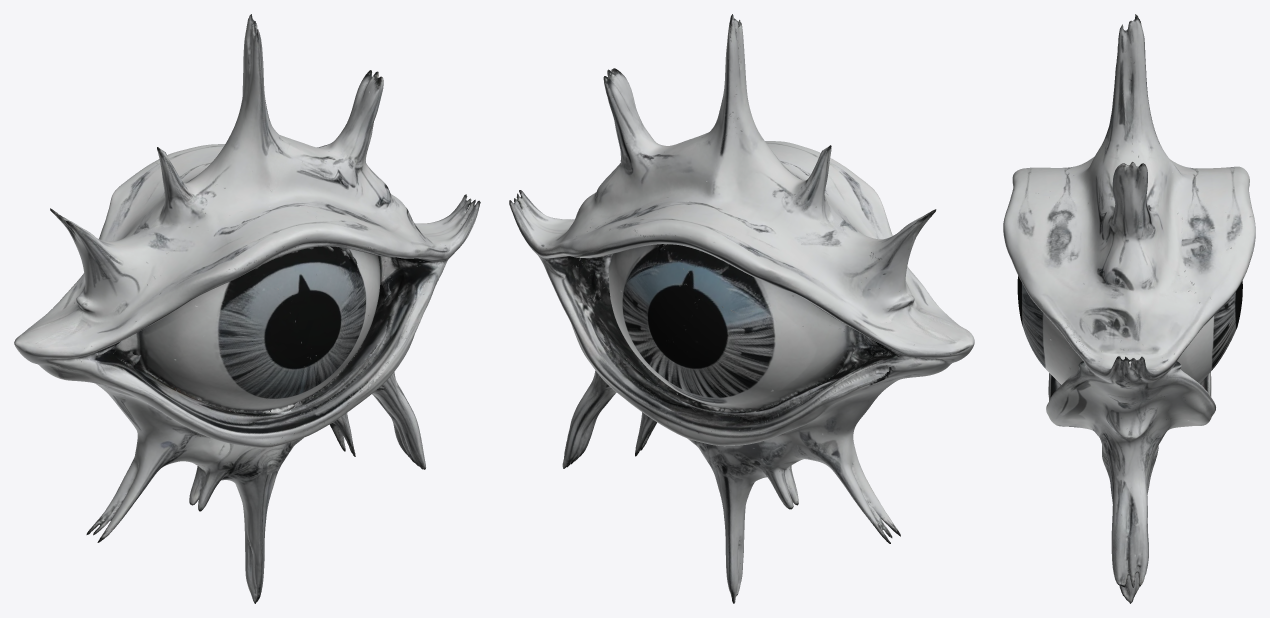
Rendered from Meshy_AI_The_Iron_Eye_0602205245_texture.glb.
3 renders of one model, left to right at view 1: azimuth 30°, elevation 25°; view 2: azimuth 150°, elevation 25°; view 3: azimuth 270°, elevation 25°, orthographic.
Size of the model in its own units: 1.63 by 2 by 0.7769.
1 material, 1 textured.
